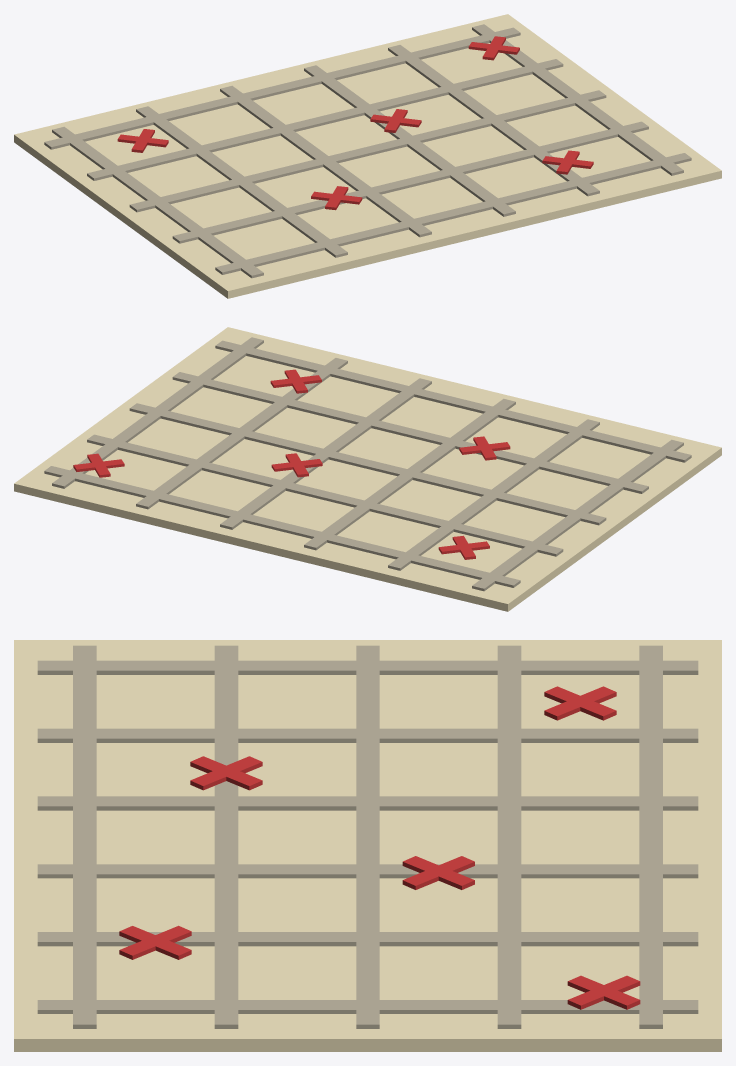
File: garage_cross_map.glb
The picture shows the model from 3 angles, top to bottom: view 1: azimuth 30°, elevation 25°; view 2: azimuth 150°, elevation 25°; view 3: azimuth 270°, elevation 25°; orthographic projection. The views are drawn at different scales.
Visible parts, largest first — view 1: paper_map_paper, streets_map_street (×11); view 2: paper_map_paper, streets_map_street (×11); view 3: paper_map_paper, streets_map_street (×11), crosses_sign_red (×10).
Boxes of the visible parts, x1,y1,x2,y2 form: paper_map_paper: (14, 14, 721, 298); streets_map_street (×11): (44, 24, 691, 278); paper_map_paper: (14, 327, 721, 611); streets_map_street (×11): (44, 337, 691, 591); paper_map_paper: (14, 640, 721, 1051); streets_map_street (×11): (37, 645, 698, 1028); crosses_sign_red (×10): (119, 686, 640, 1009).
Bounding box in the file's own units: 0.4 × 0.01 × 0.3.
